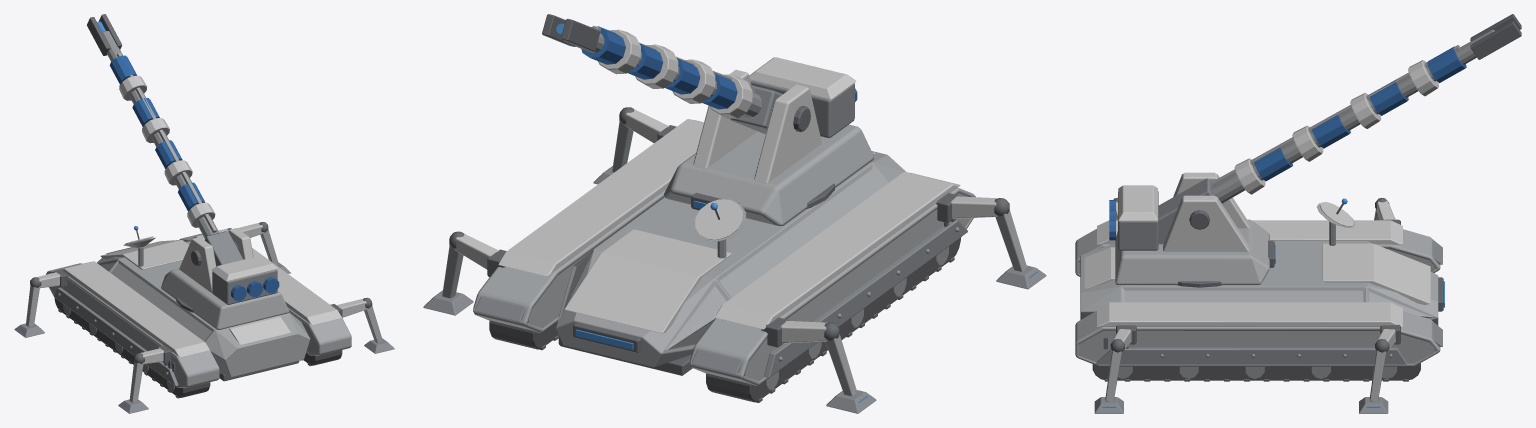
File: lattice_long_artillery.glb
3 renders of one model, left to right at view 1: azimuth 30°, elevation 25°; view 2: azimuth 150°, elevation 25°; view 3: azimuth 270°, elevation 25°, orthographic. The views are drawn at different scales.
Visible parts, largest first — view 1: Body, Turret; view 2: Body, Turret; view 3: Body, Turret.
Boxes of the visible parts, box(x1,y1,x2,y2) form: Body: box(14, 222, 394, 413); Turret: box(87, 14, 289, 329); Body: box(423, 107, 1046, 413); Turret: box(542, 14, 873, 225); Body: box(1075, 197, 1444, 413); Turret: box(1109, 14, 1521, 285).
Size of the model in its own units: 2.29 by 2.03 by 2.62.
